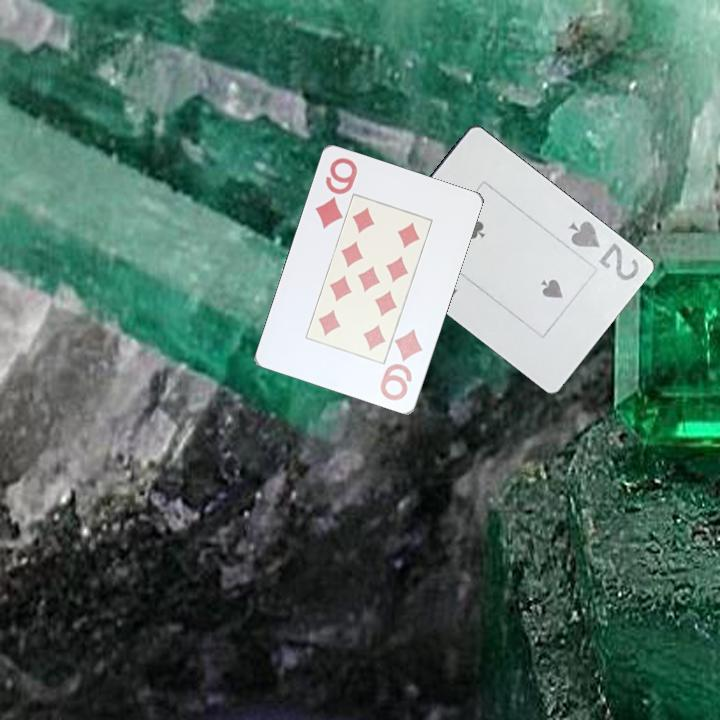2s: (564, 217, 642, 285)
9d: (312, 154, 361, 233), (377, 326, 426, 404)
